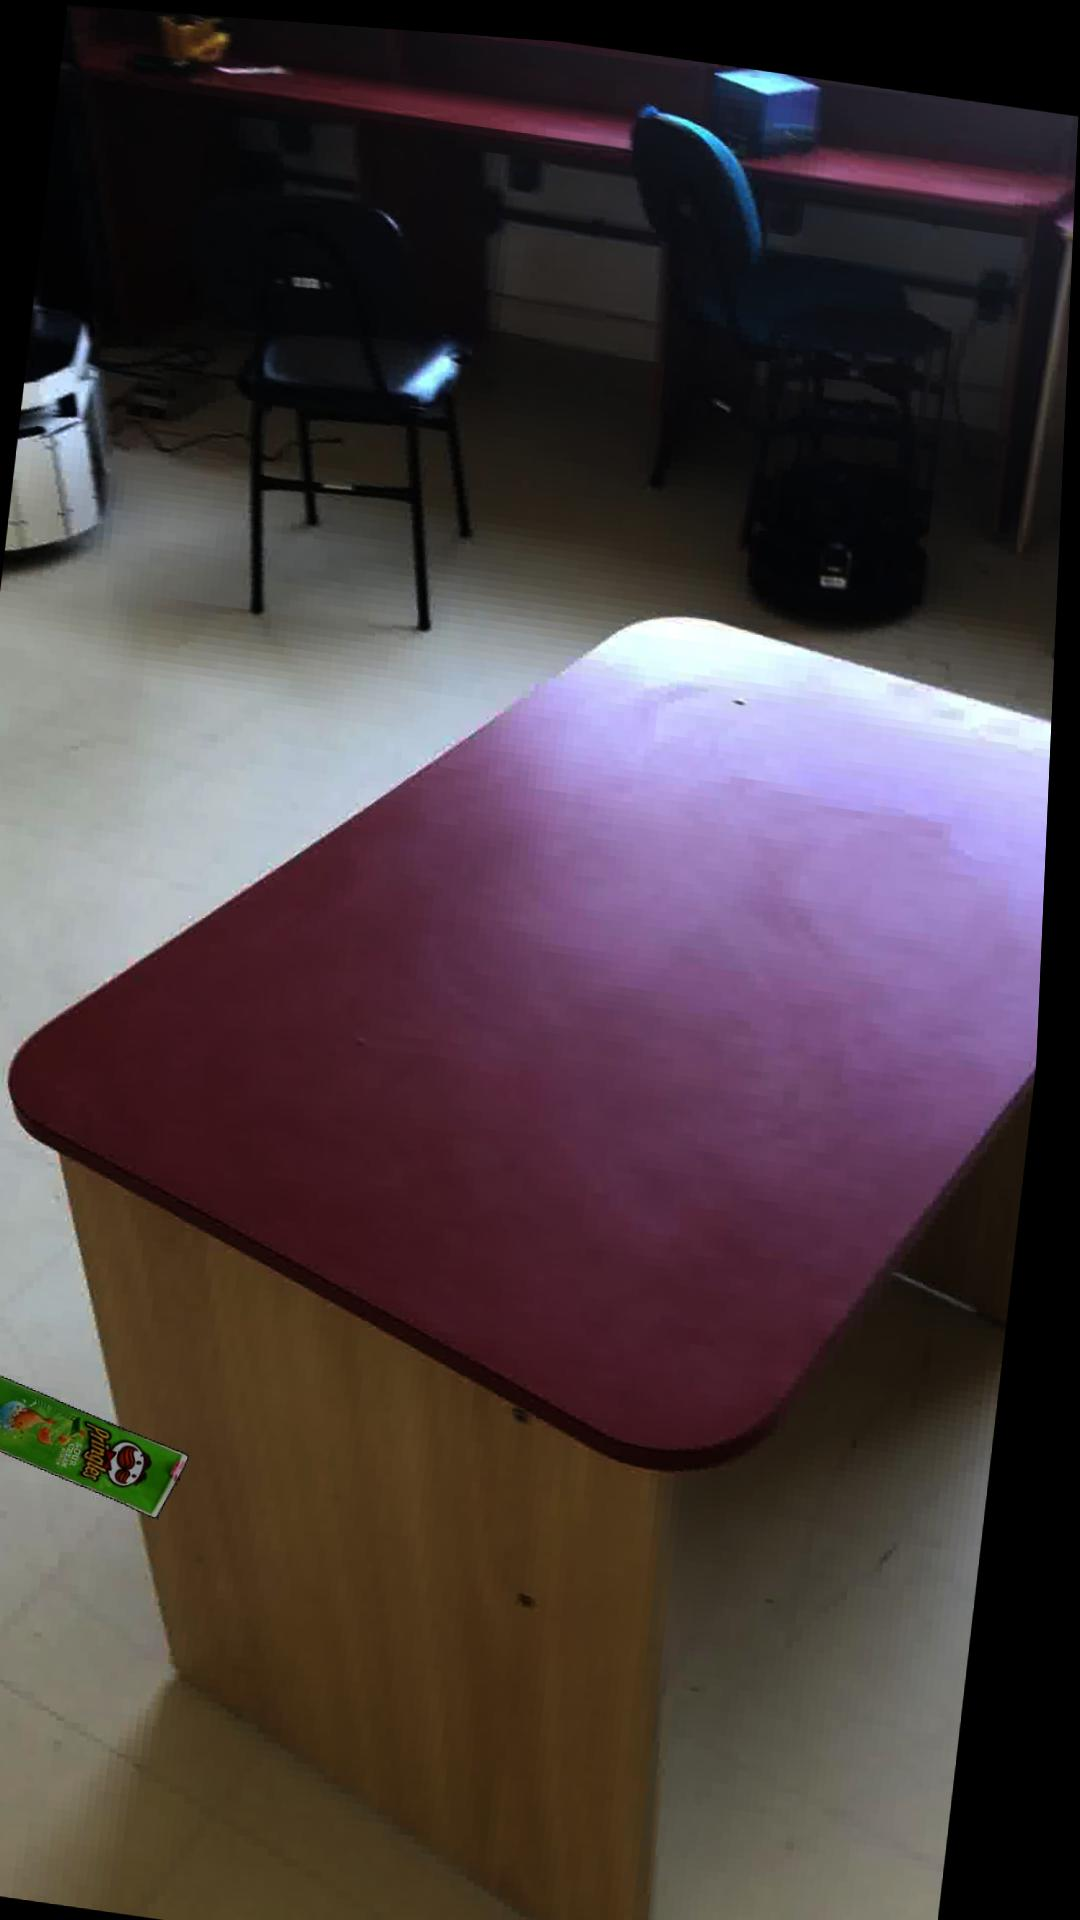pringles: (0, 1367, 203, 1513)
